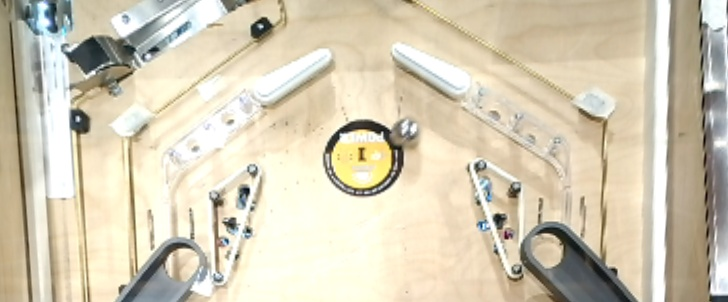ball: (390, 116, 421, 150)
flipper-left: (391, 40, 474, 101)
flipper-right: (253, 46, 336, 106)
